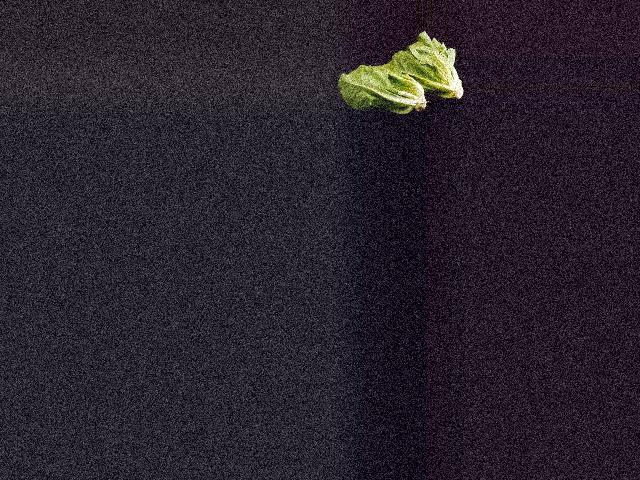lettuce: (376, 32, 463, 108)
